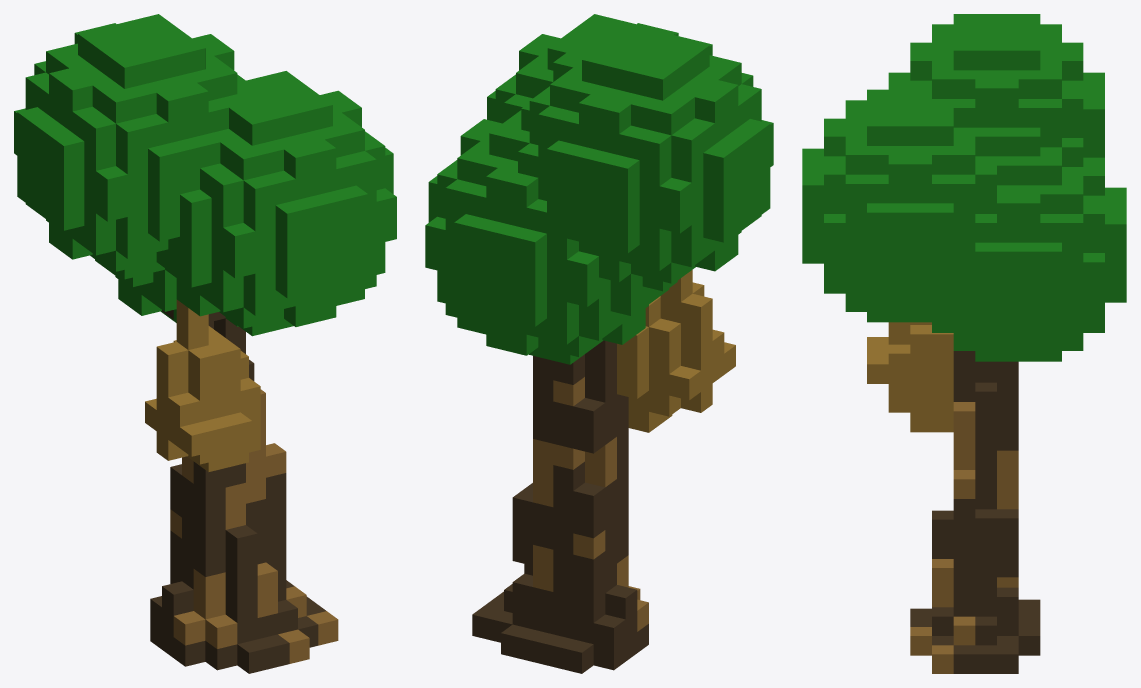
Rendered from center tree1.obj.
3 views of the same model, side by side, from view 1: azimuth 30°, elevation 25°; view 2: azimuth 150°, elevation 25°; view 3: azimuth 270°, elevation 25° (orthographic). The views are drawn at different scales.
Bounding box in the file's own units: 1.4 × 2.9 × 1.5.
